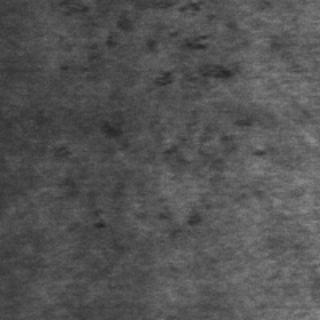rolled pit: (133, 112, 251, 242), (112, 0, 238, 86)
